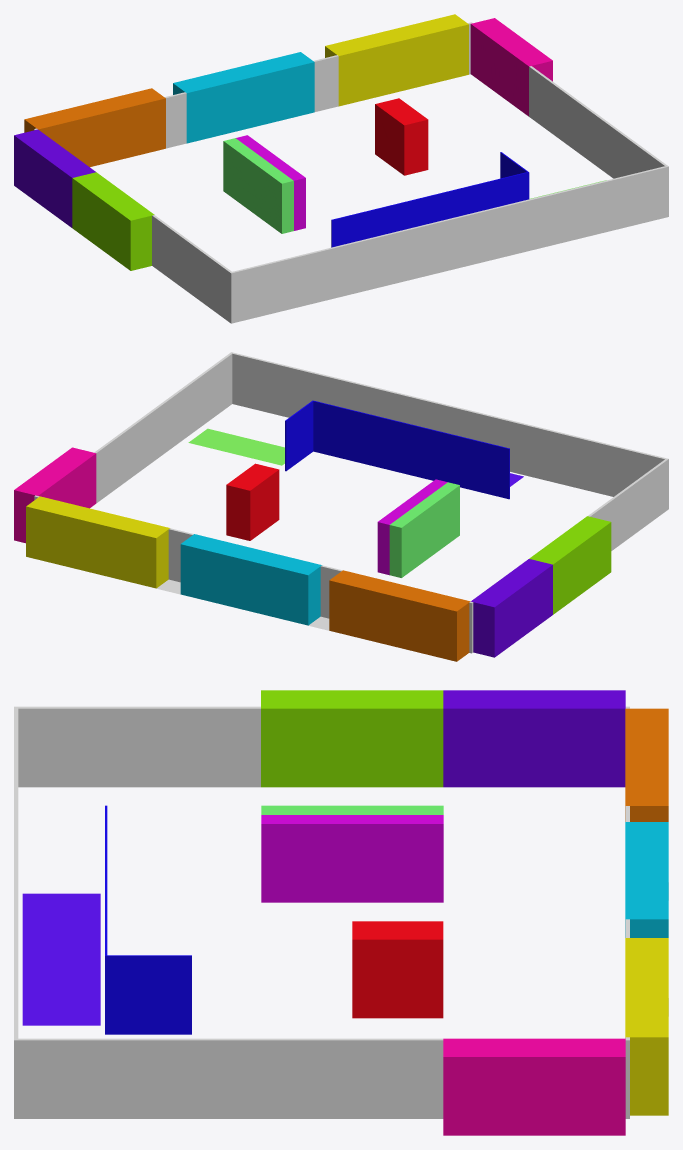
The model's file is shop.dae.
3 renders of one model, top to bottom at view 1: azimuth 30°, elevation 25°; view 2: azimuth 150°, elevation 25°; view 3: azimuth 270°, elevation 25°, orthographic. The views are drawn at different scales.
Parts seen in each view (by area): view 1: wall_south, section_vegetable, section_seafood, sectinon_meat, wall_east, divider, section_electronics, wc, section_snacks, wall_west, section_refriger, section_beverage (+2 smaller); view 2: wall_south, divider, section_vegetable, sectinon_meat, section_seafood, wall_east, section_snacks, section_electronics, section_refriger, wc, wall_west, section_beverage (+3 smaller); view 3: wall_east, wall_west, wc, section_electronics, section_snacks, section_frizer, pinky_wait_section, section_beverage, section_vegetable, divider, section_seafood, sectinon_meat (+2 smaller).
Part boxes in pixels (box(x1,y1,x2,y2)): wall_south: box(232, 166, 666, 322); section_vegetable: box(325, 14, 468, 106); section_seafood: box(173, 52, 314, 143); sectinon_meat: box(24, 88, 165, 166); wall_east: box(469, 22, 668, 217); divider: box(331, 152, 529, 247); section_electronics: box(72, 172, 154, 270); wc: box(470, 18, 552, 116); section_snacks: box(14, 129, 95, 227); wall_west: box(34, 128, 233, 323); section_refriger: box(223, 138, 293, 233); section_beverage: box(375, 98, 428, 175); wall_south: box(232, 353, 665, 496); divider: box(285, 400, 509, 499); section_vegetable: box(26, 496, 169, 588); sectinon_meat: box(329, 570, 470, 661); section_seafood: box(180, 534, 321, 625); wall_east: box(34, 352, 233, 503); section_snacks: box(471, 559, 552, 657); section_electronics: box(529, 516, 611, 614); section_refriger: box(389, 482, 459, 577); wc: box(14, 447, 96, 543); wall_west: box(469, 458, 668, 653); section_beverage: box(226, 463, 279, 540); wall_east: box(14, 1038, 629, 1118); wall_west: box(14, 706, 629, 787); wc: box(443, 1038, 625, 1135); section_electronics: box(261, 690, 443, 787); section_snacks: box(443, 690, 625, 787); section_frizer: box(261, 815, 443, 902); pinky_wait_section: box(22, 893, 100, 1025); section_beverage: box(352, 921, 443, 1018); section_vegetable: box(625, 938, 668, 1115); divider: box(105, 805, 191, 1034); section_seafood: box(625, 822, 668, 937); sectinon_meat: box(625, 708, 668, 821).
Size of the model in its own units: 1.99 by 1.51 by 0.1996.
